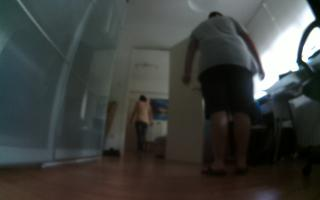person: (178, 8, 268, 179), (125, 92, 156, 161)
